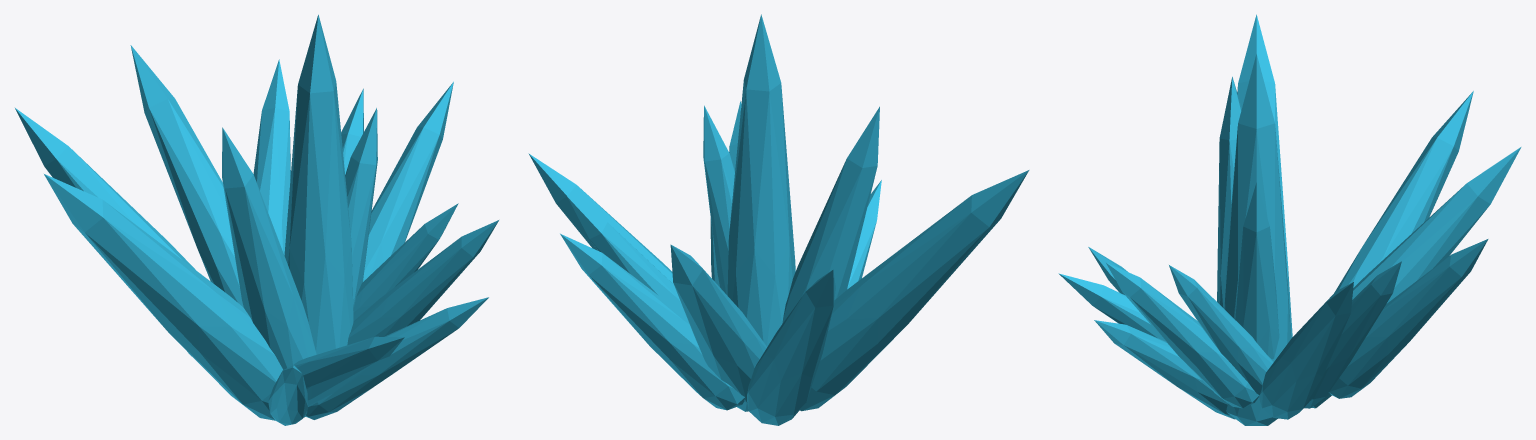
File: kristalfehmi8-2.fbx
The picture shows the model from 3 angles, left to right: view 1: azimuth 30°, elevation 25°; view 2: azimuth 150°, elevation 25°; view 3: azimuth 270°, elevation 25°; orthographic projection. The views are drawn at different scales.
Parts seen in each view (by area): view 1: Icosphere.010; view 2: Icosphere.010; view 3: Icosphere.010.
Boxes of the visible parts, left/top/right/bottom form: Icosphere.010: left=15, top=14, right=498, bottom=425; Icosphere.010: left=528, top=14, right=1029, bottom=425; Icosphere.010: left=1058, top=14, right=1521, bottom=425.
Bounding box in the file's own units: 1360 × 1105 × 1252.
